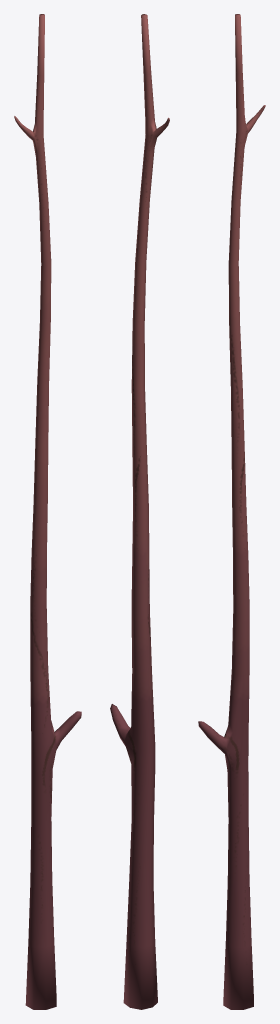
Rendered from obj_Branch.fbx.
3 views of the same model, side by side, from view 1: azimuth 90°, elevation 25°; view 2: azimuth 210°, elevation 25°; view 3: azimuth 270°, elevation 25° (orthographic).
Parts seen in each view (by area): view 1: Branch; view 2: Branch; view 3: Branch.
Boxes of the visible parts, left/top/right/bottom form: Branch: left=14, top=14, right=81, bottom=1009; Branch: left=110, top=14, right=169, bottom=1009; Branch: left=198, top=14, right=265, bottom=1009.
Bounding box in the file's own units: 2.58 × 80 × 4.96.
